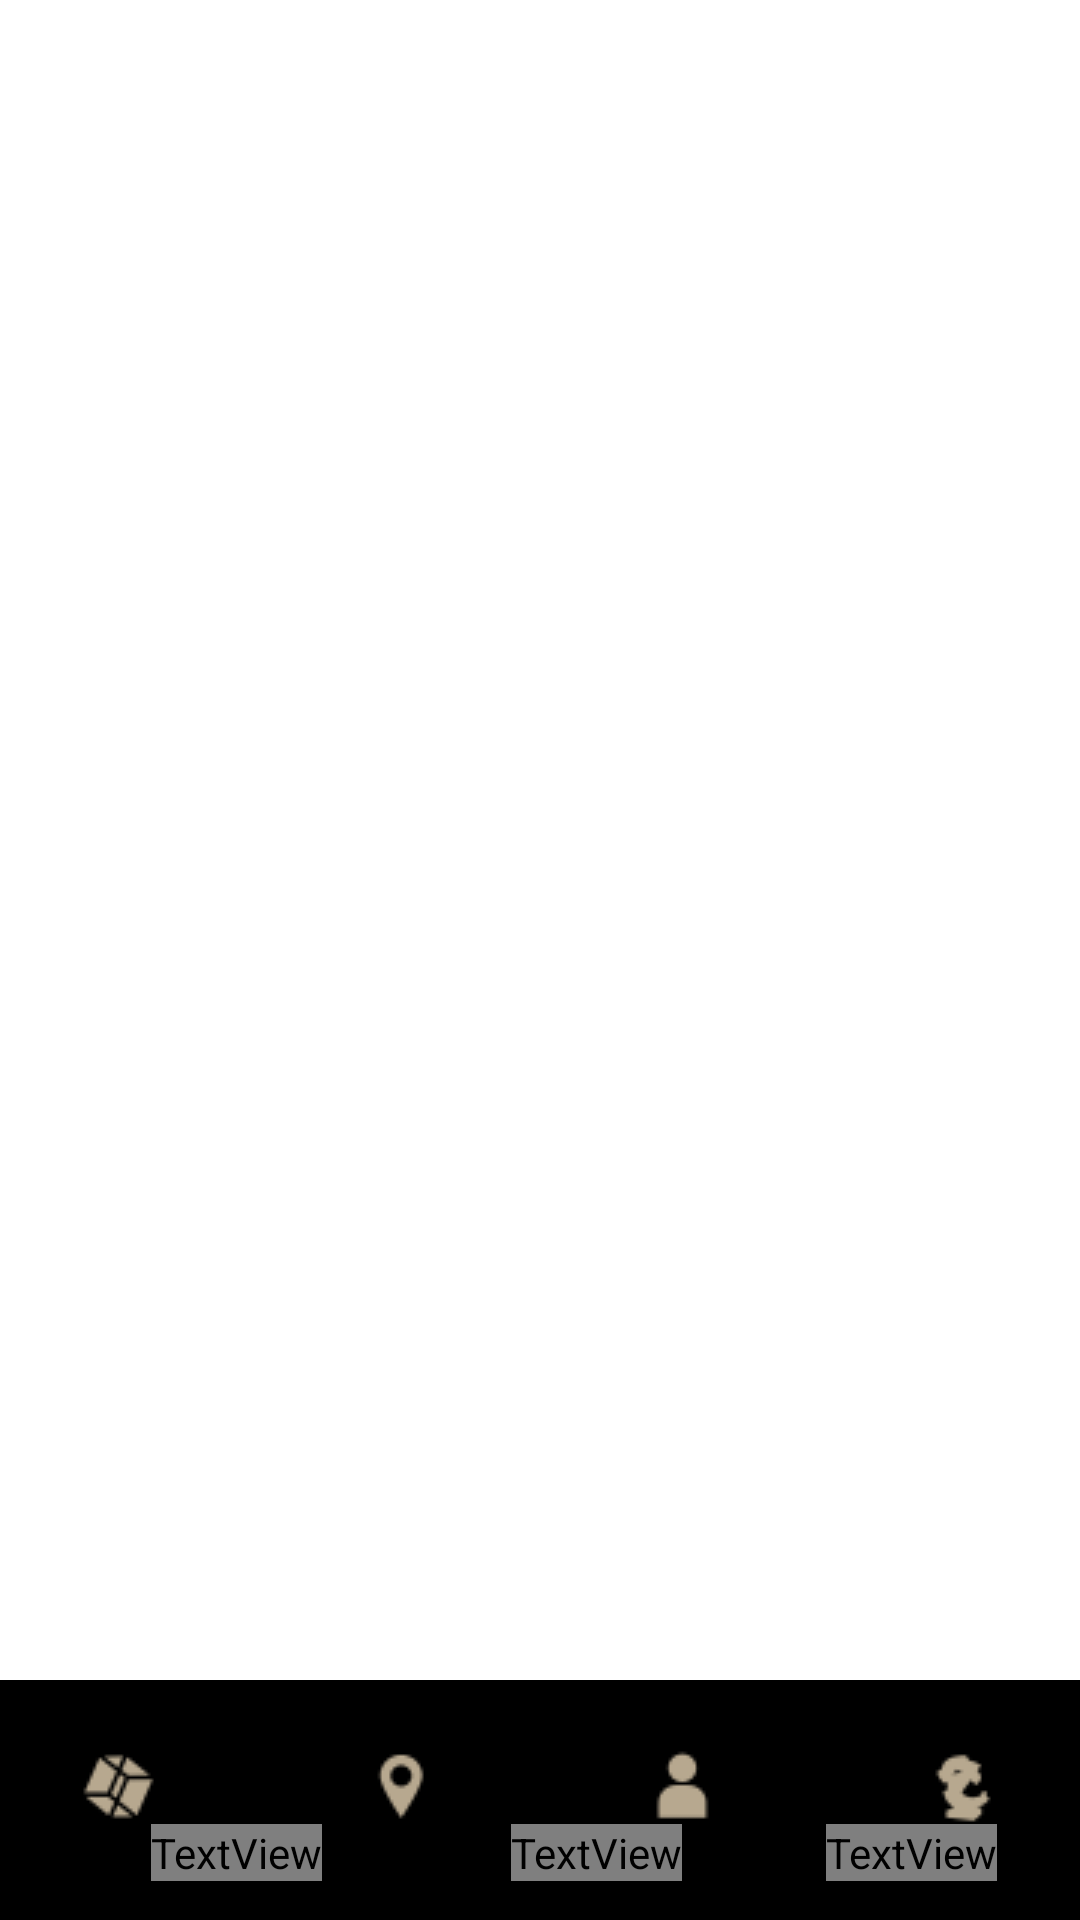

Icon bounding boxes for this 1080 x 1920 phone screenshot, format (x1, y1, x2, y2):
botonera iconaartistes low: (656, 1752, 708, 1819)
botonera iconacoleccio low: (83, 1754, 154, 1819)
botonera iconaescultures low: (936, 1754, 991, 1822)
botonera iconamapa low: (378, 1754, 424, 1819)
